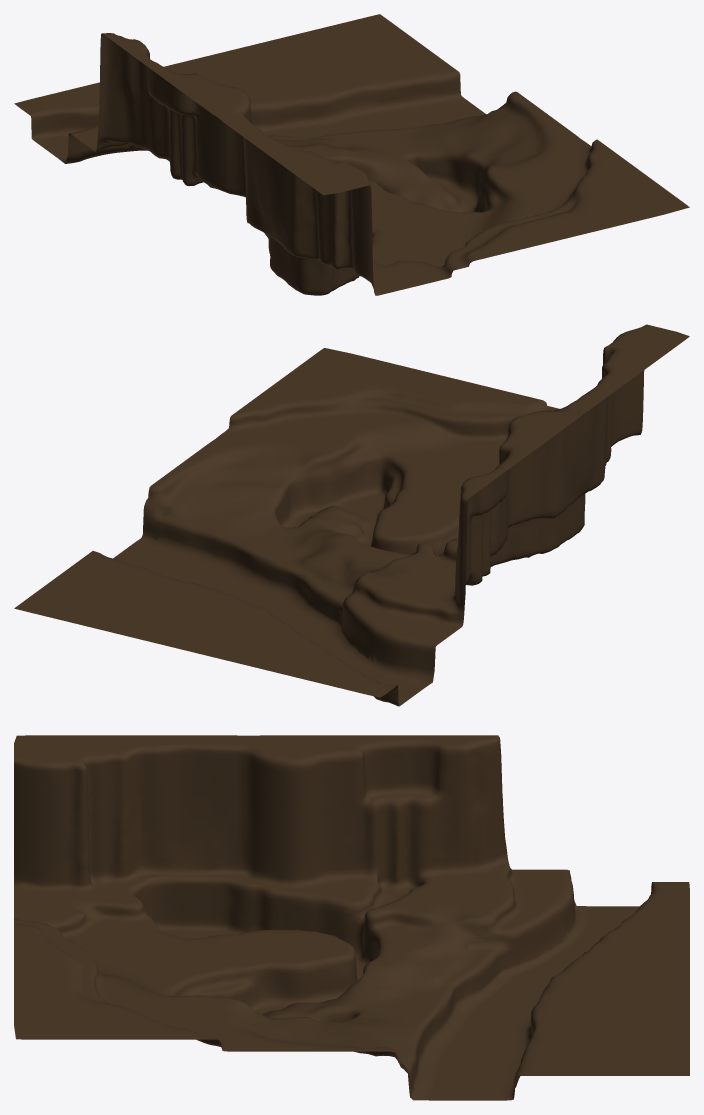
The model's file is F_Land_Base_001.fbx.
3 views of the same model, one above another, from view 1: azimuth 30°, elevation 25°; view 2: azimuth 150°, elevation 25°; view 3: azimuth 270°, elevation 25° (orthographic). The views are drawn at different scales.
Visible parts, largest first — view 1: Object023; view 2: Object023; view 3: Object023.
Part boxes in pixels (left/top/right/bottom): Object023: left=14, top=14, right=689, bottom=295; Object023: left=14, top=324, right=689, bottom=706; Object023: left=14, top=735, right=689, bottom=1100.
Bounding box in the file's own units: 7660 × 3137 × 11252.
